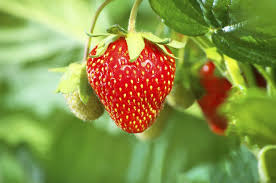strawberry: (86, 22, 179, 139)
